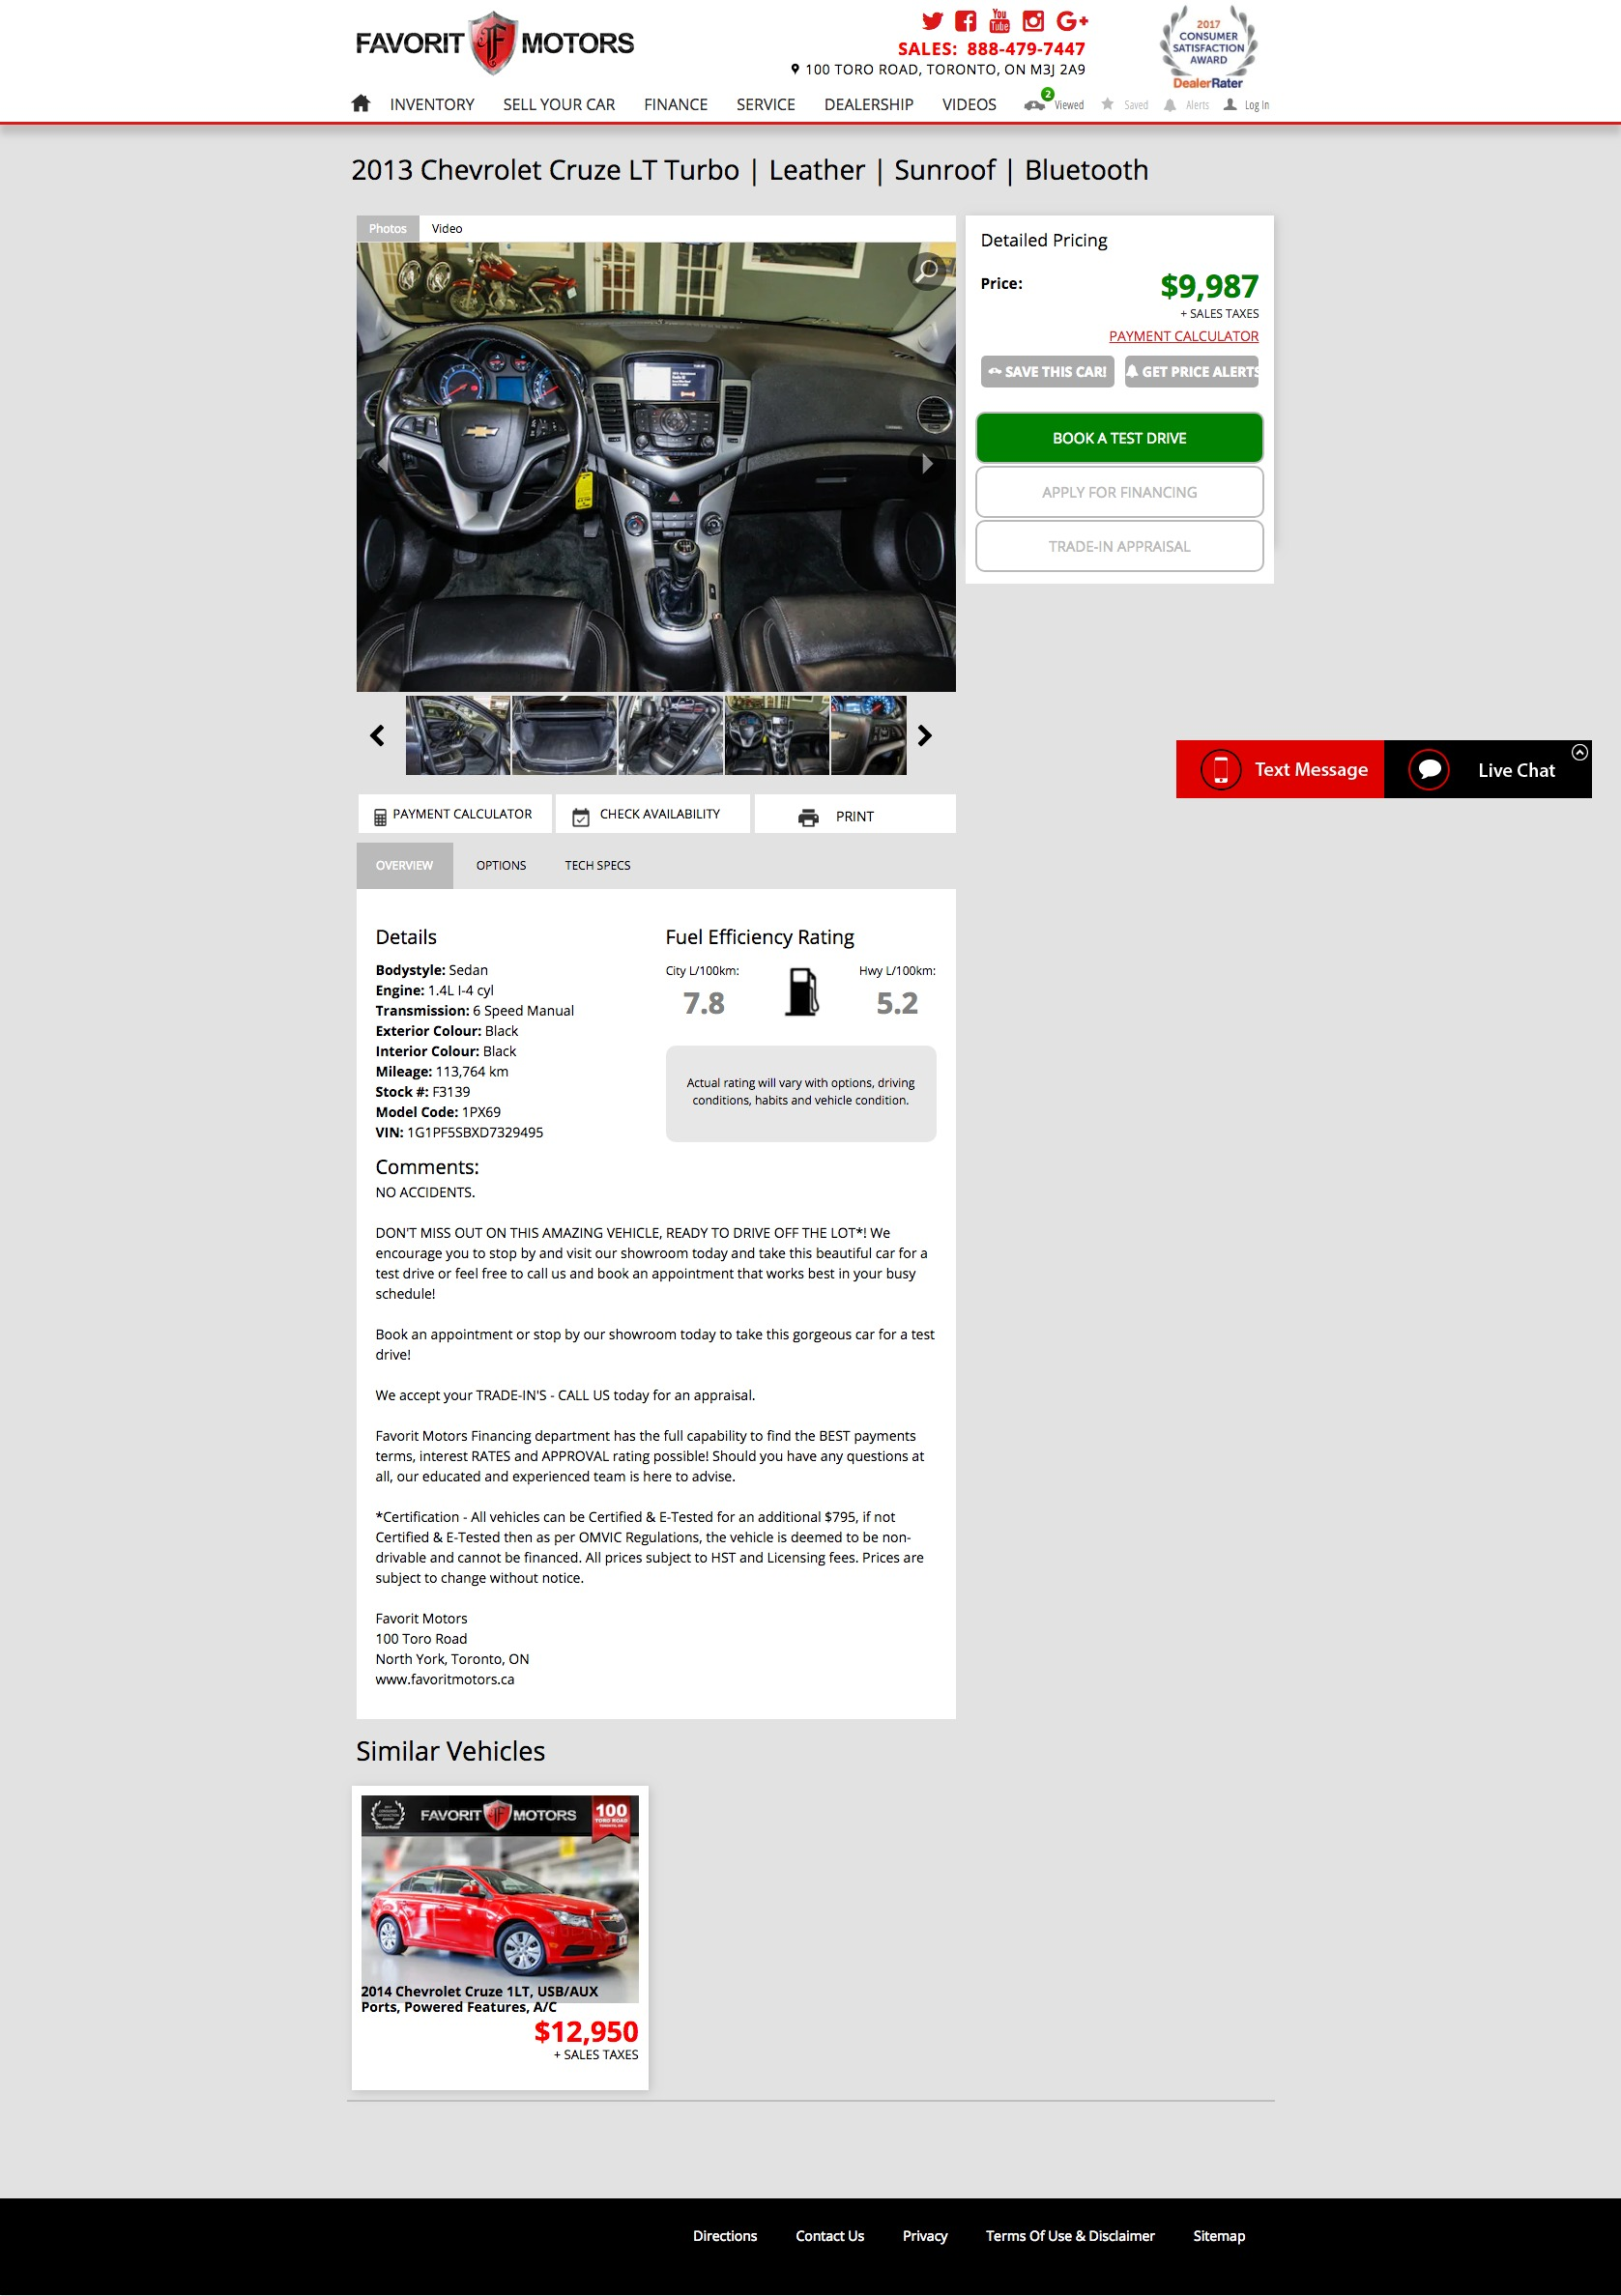car: (918, 724, 933, 747)
